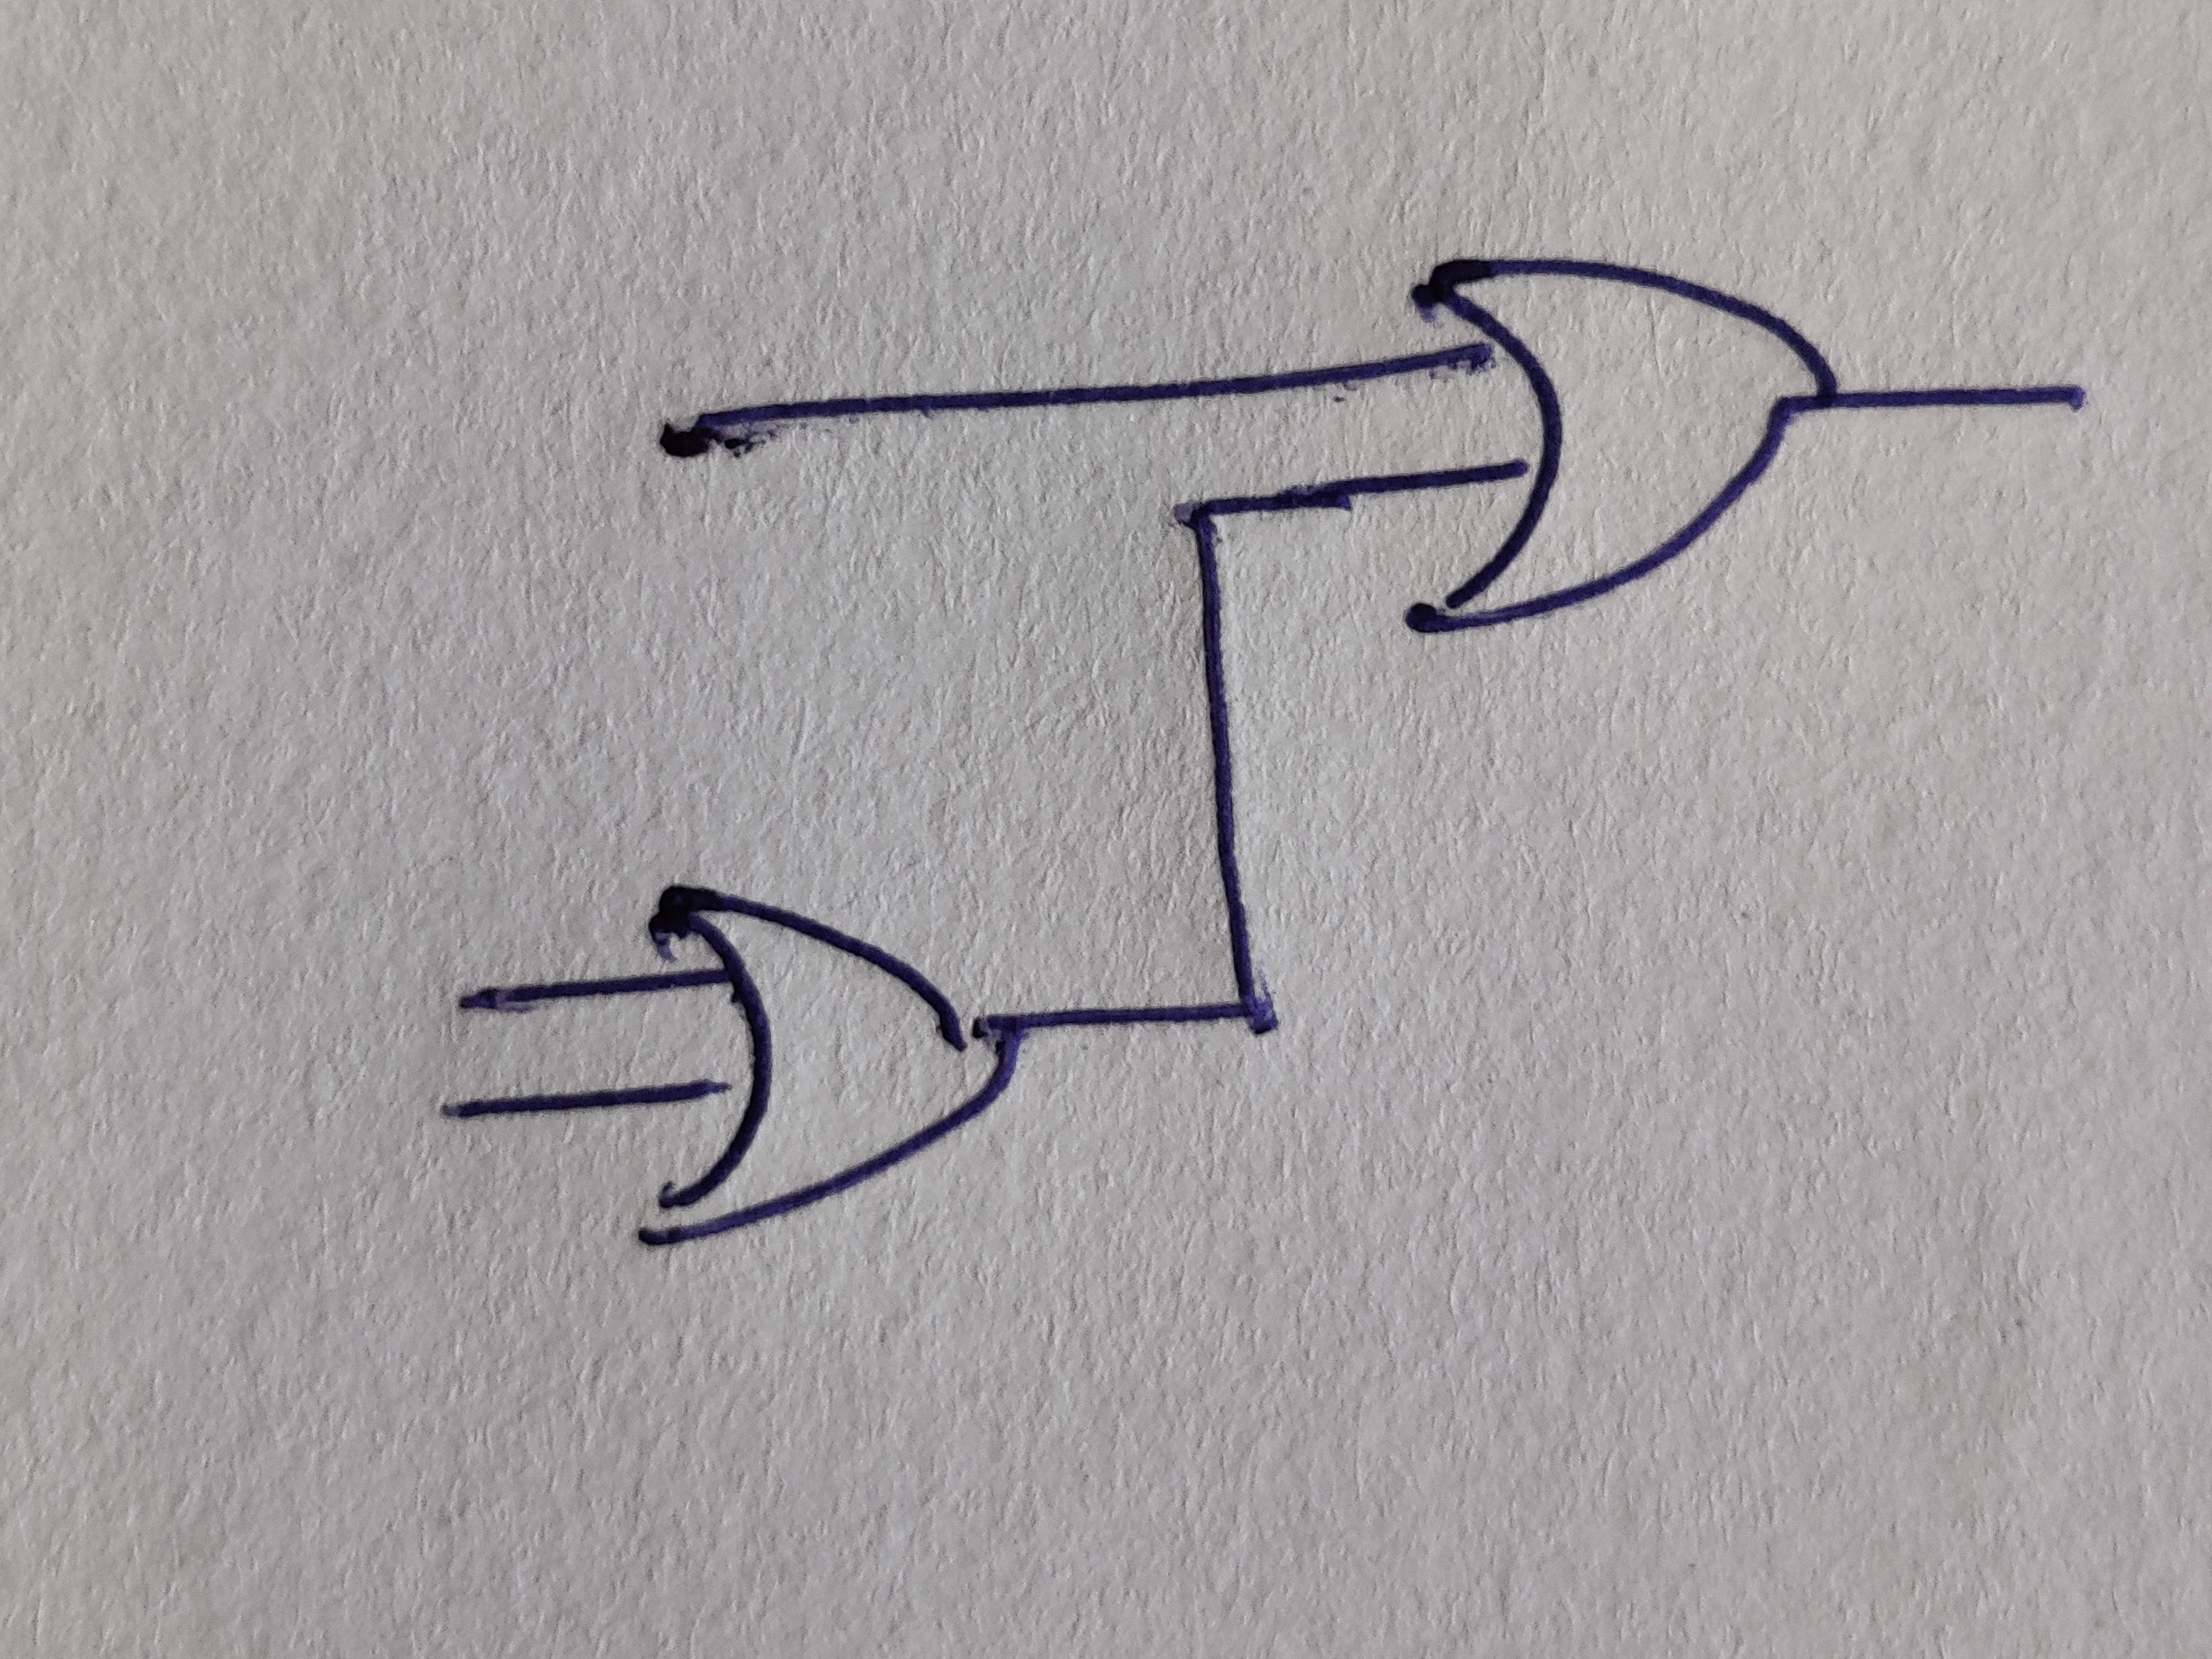or: (1406, 261, 1836, 636), (636, 884, 1026, 1249)
